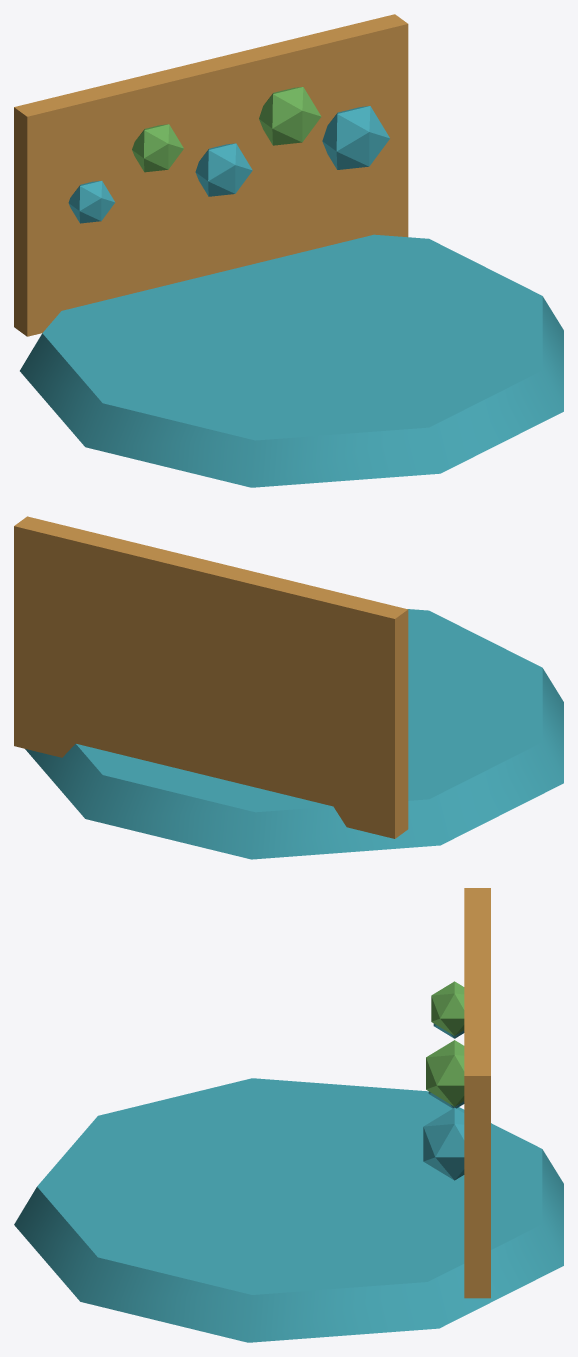
Rendered from stage.glb.
The picture shows the model from 3 angles, top to bottom: view 1: azimuth 30°, elevation 25°; view 2: azimuth 150°, elevation 25°; view 3: azimuth 270°, elevation 25°; orthographic projection.
Visible parts, largest first — view 1: stage_base, stage_backdrop, stage_emblem_4, stage_emblem_3, stage_emblem_2, stage_emblem_1, stage_emblem_0; view 2: stage_backdrop, stage_base; view 3: stage_base, stage_backdrop, stage_emblem_4, stage_emblem_3, stage_emblem_1.
Part boxes in pixels (x1,y1,x2,y2): stage_base: (20, 234, 563, 487); stage_backdrop: (14, 14, 408, 336); stage_emblem_4: (322, 106, 389, 169); stage_emblem_3: (259, 87, 321, 145); stage_emblem_2: (195, 143, 252, 196); stage_emblem_1: (132, 124, 183, 172); stage_emblem_0: (68, 180, 115, 223); stage_backdrop: (14, 516, 408, 838); stage_base: (25, 609, 563, 859); stage_base: (14, 1078, 563, 1342); stage_backdrop: (464, 888, 490, 1298); stage_emblem_4: (423, 1107, 464, 1180); stage_emblem_3: (426, 1040, 464, 1106); stage_emblem_1: (431, 981, 464, 1035).
Size of what is drawn, in the model's own units: 7.29 by 3.5 by 7.18.
